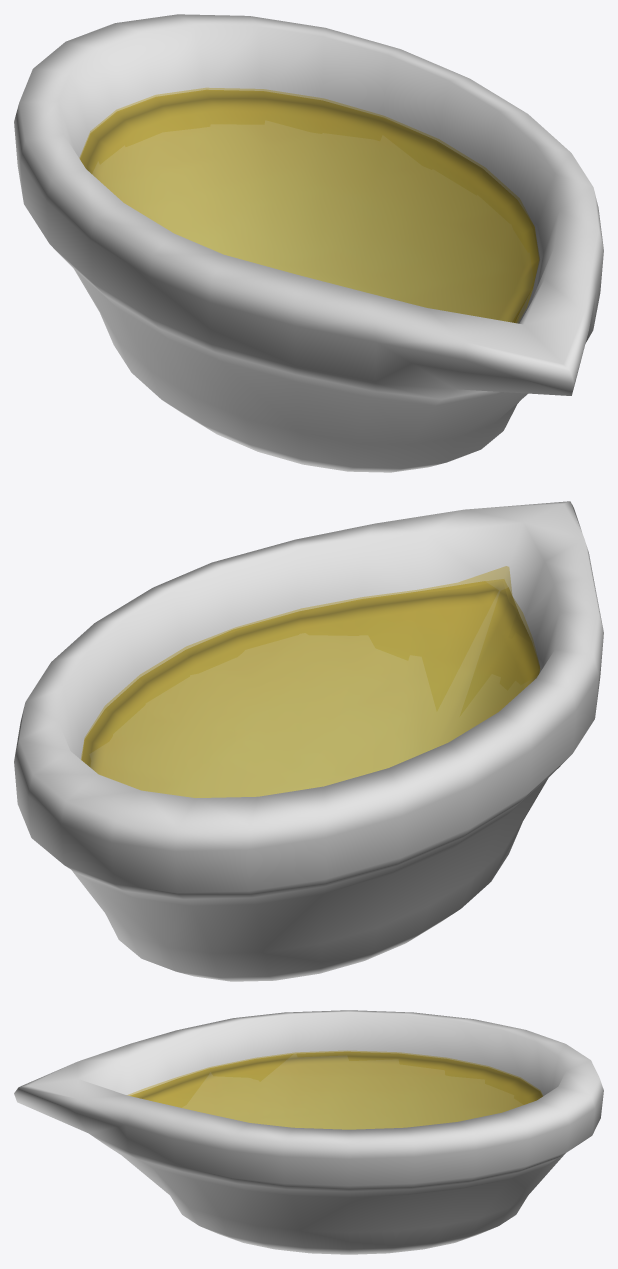
The model's file is pi_oliveoil04.gltf.
3 renders of one model, top to bottom at view 1: azimuth 30°, elevation 25°; view 2: azimuth 150°, elevation 25°; view 3: azimuth 270°, elevation 25°, orthographic. The views are drawn at different scales.
Visible parts, largest first — view 1: pi_smallbowl01_mesh_shape:pi_oliveoil04_glass, pi_oliveoil04_02_mesh_shape:pi_oliveoil04_body, pi_oliveoil04_01_mesh_shape:pi_oliveoil04_body; view 2: pi_smallbowl01_mesh_shape:pi_oliveoil04_glass, pi_oliveoil04_02_mesh_shape:pi_oliveoil04_body, pi_oliveoil04_01_mesh_shape:pi_oliveoil04_body; view 3: pi_smallbowl01_mesh_shape:pi_oliveoil04_glass, pi_oliveoil04_02_mesh_shape:pi_oliveoil04_body, pi_oliveoil04_01_mesh_shape:pi_oliveoil04_body.
Boxes of the visible parts, <box> form: pi_smallbowl01_mesh_shape:pi_oliveoil04_glass: <box>14,14,603,472</box>; pi_oliveoil04_02_mesh_shape:pi_oliveoil04_body: <box>79,88,539,322</box>; pi_oliveoil04_01_mesh_shape:pi_oliveoil04_body: <box>80,90,538,323</box>; pi_smallbowl01_mesh_shape:pi_oliveoil04_glass: <box>14,501,603,981</box>; pi_oliveoil04_02_mesh_shape:pi_oliveoil04_body: <box>81,566,539,797</box>; pi_oliveoil04_01_mesh_shape:pi_oliveoil04_body: <box>82,579,540,797</box>; pi_smallbowl01_mesh_shape:pi_oliveoil04_glass: <box>14,1010,603,1254</box>; pi_oliveoil04_02_mesh_shape:pi_oliveoil04_body: <box>127,1050,542,1129</box>; pi_oliveoil04_01_mesh_shape:pi_oliveoil04_body: <box>130,1052,542,1129</box>.
Bounding box in the file's own units: 0.0562 × 0.0274 × 0.102.
Materials: 2 (2 with a texture image).
